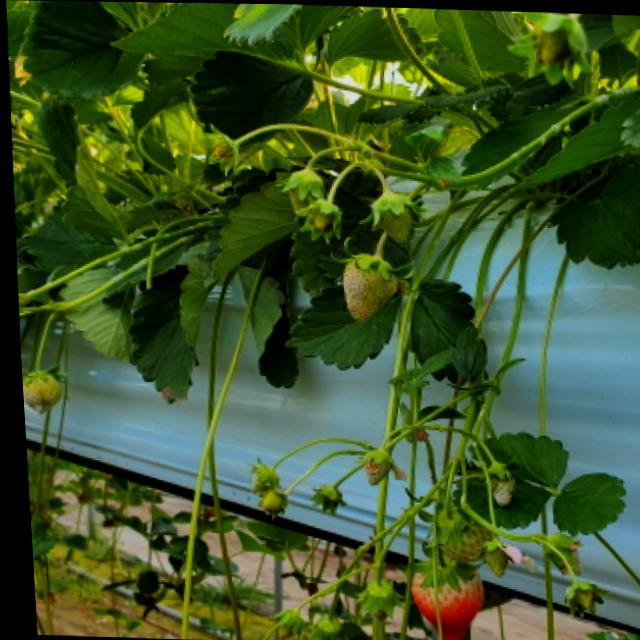Powdery Mildew Fruit: (338, 253, 395, 323)
